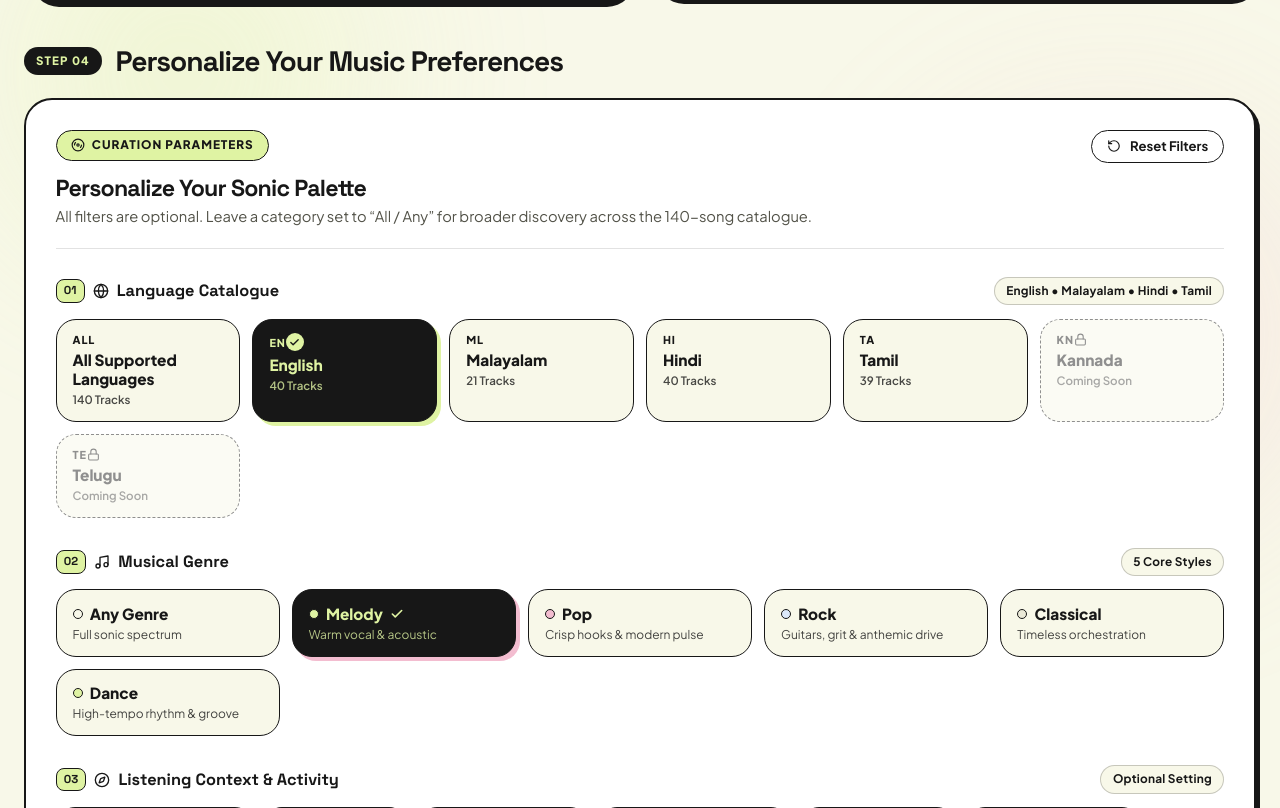
it: VibeShift Frontend Complete Verification Suite › prevents selecting unsupported upcoming languages (Kannada, Telugu) while allowing supported ones
This screenshot has width=1280, height=808.
(page scrolled)
Expected: the button with test id "lang-option-Kannada" is disabled, [1040,318,1224,422]
Expected: the button with test id "lang-option-Telugu" is disabled, [56,434,240,518]
Click the button with test id "lang-option-Malayalam". click: (542, 370)
box: [449,318,634,422]
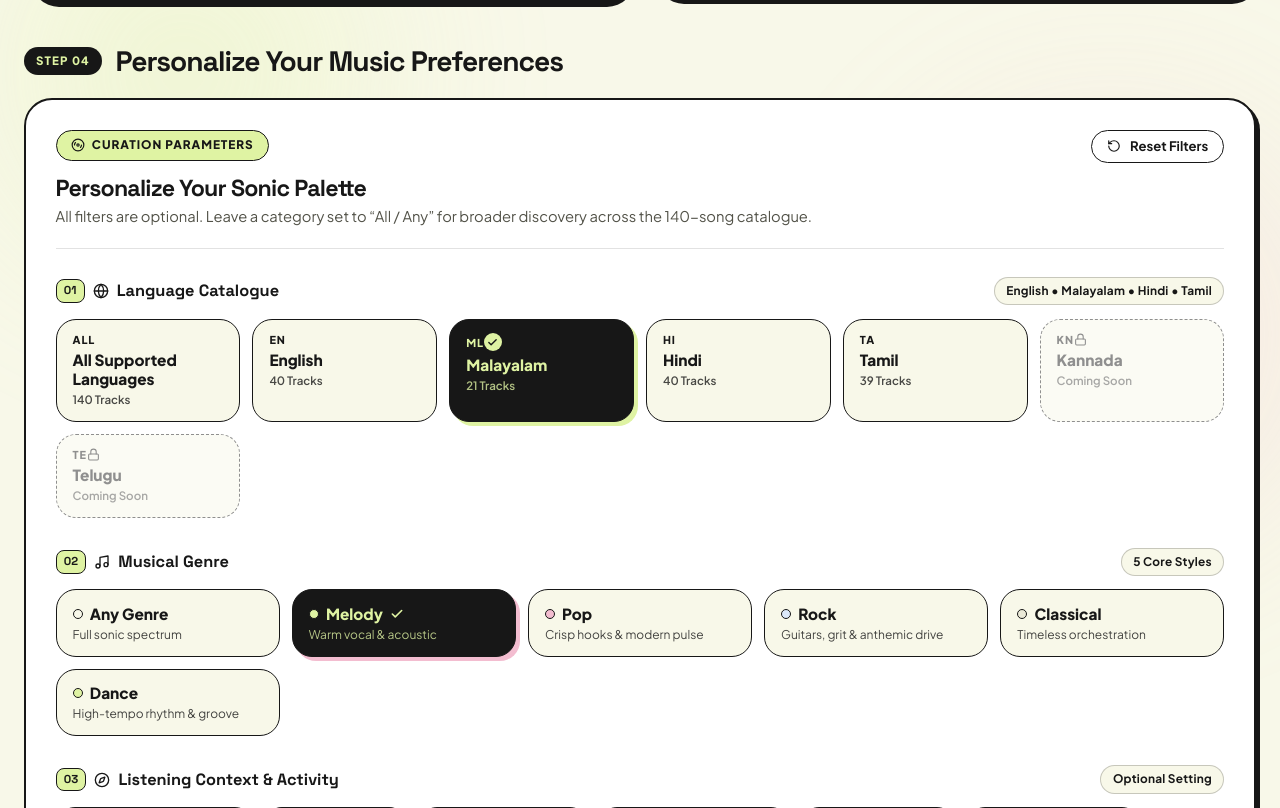
Now the button with test id "lang-option-Malayalam" is pressed, box [449,318,634,422]
